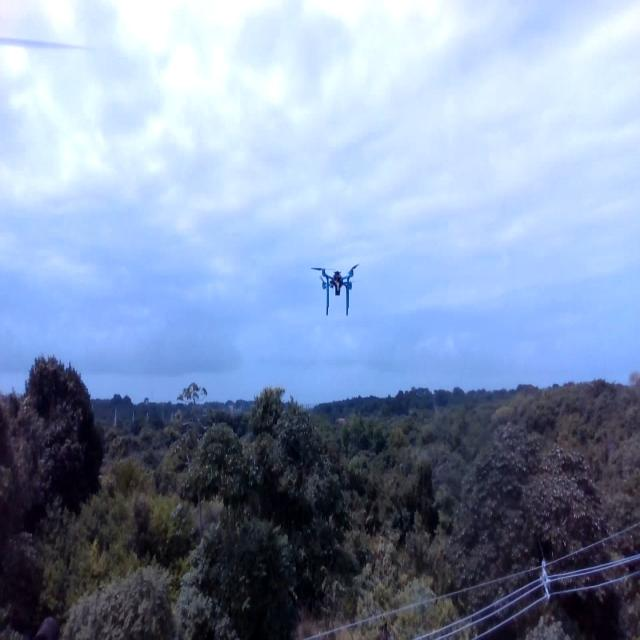-uav-: (309, 249, 366, 320)
